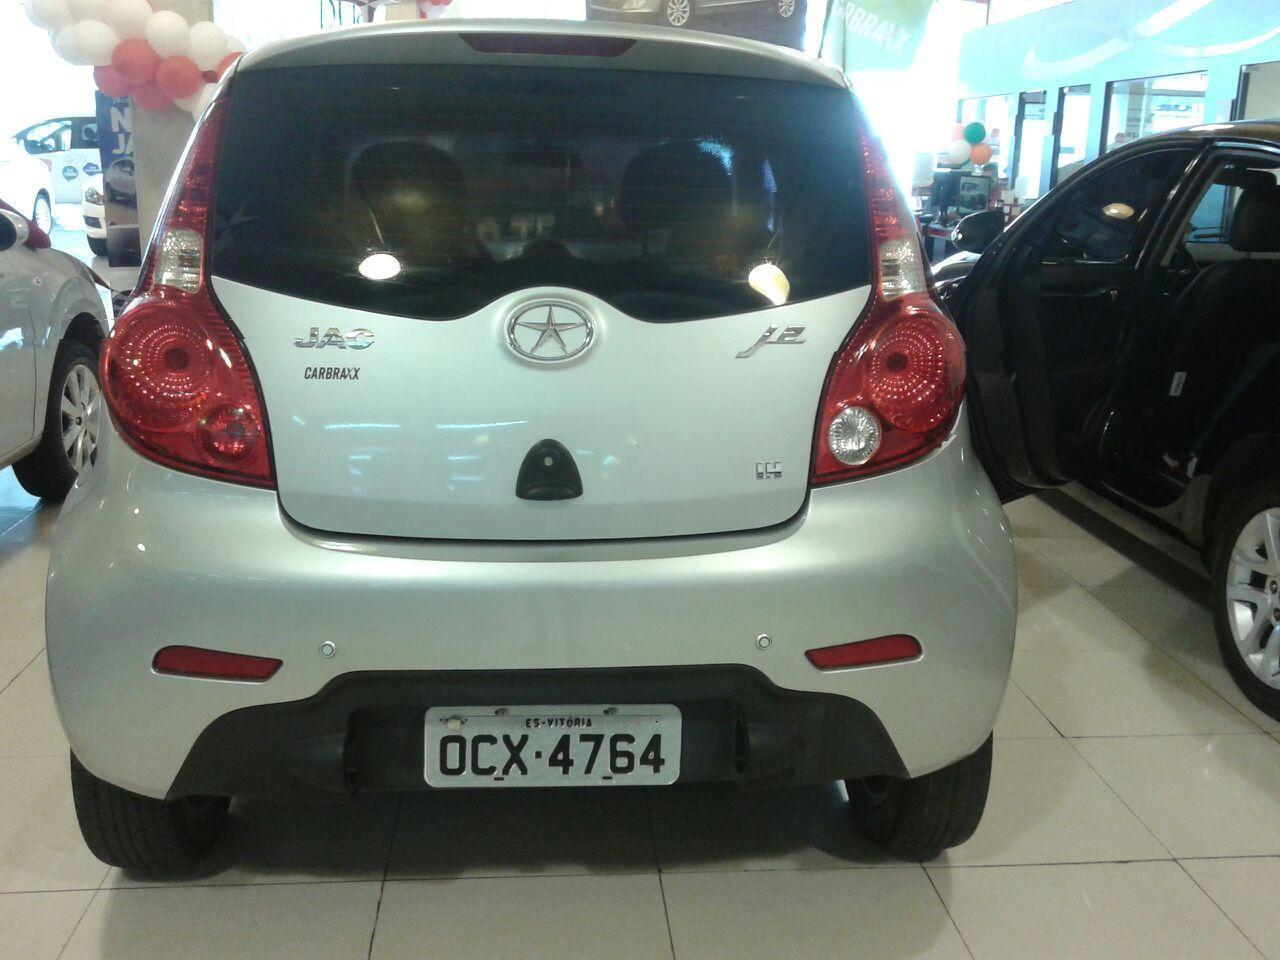placa de veiculo: (396, 684, 727, 822)
